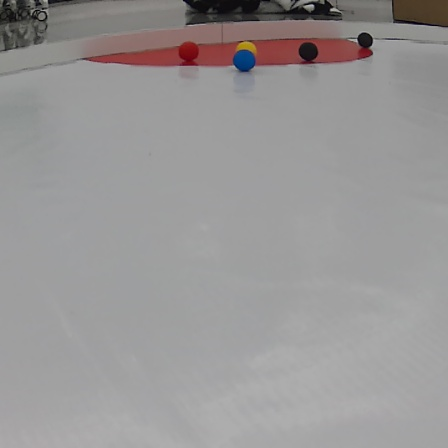black: (299, 43, 317, 61), (357, 31, 374, 47)
blue: (230, 51, 258, 72)
red: (178, 41, 199, 62)
red_base: (82, 44, 389, 67)
yellow: (237, 40, 258, 52)
